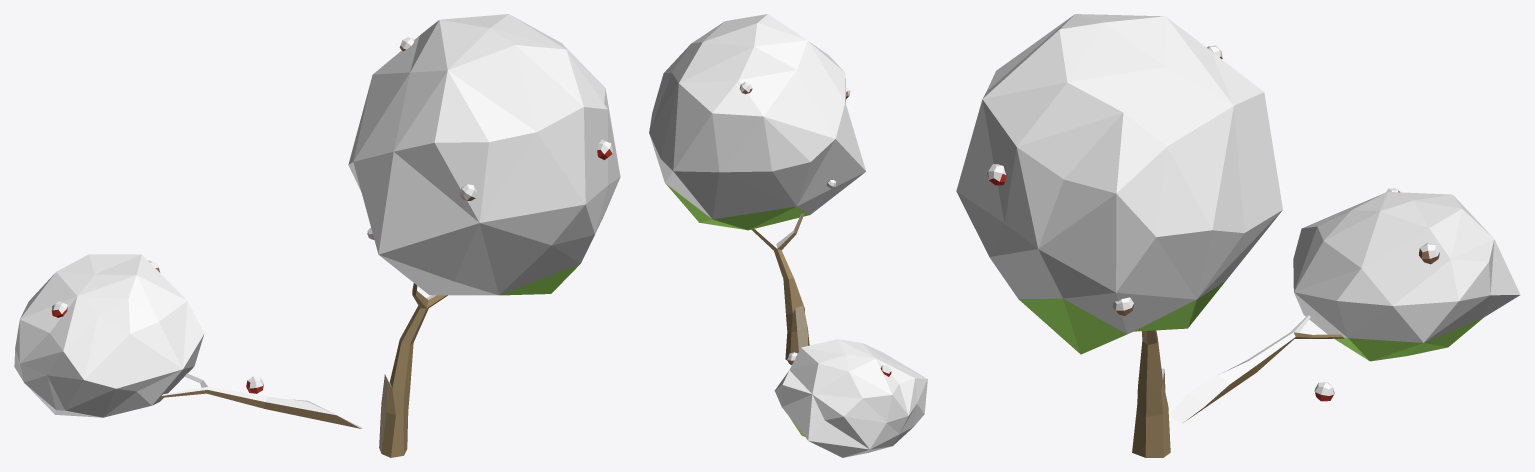
The model's file is Apple_Tree_Apples_crk_m_Snow_03.fbx.
3 views of the same model, side by side, from view 1: azimuth 30°, elevation 25°; view 2: azimuth 150°, elevation 25°; view 3: azimuth 270°, elevation 25° (orthographic). The views are drawn at different scales.
Parts seen in each view (by area): view 1: Apple_Tree_Apples_crk_m_Snow_03; view 2: Apple_Tree_Apples_crk_m_Snow_03; view 3: Apple_Tree_Apples_crk_m_Snow_03.
Part boxes in pixels (box(x1,y1,x2,y2)): Apple_Tree_Apples_crk_m_Snow_03: box(14, 14, 620, 457); Apple_Tree_Apples_crk_m_Snow_03: box(649, 14, 927, 457); Apple_Tree_Apples_crk_m_Snow_03: box(956, 14, 1520, 457).
Bounding box in the file's own units: 827 × 721 × 784.
